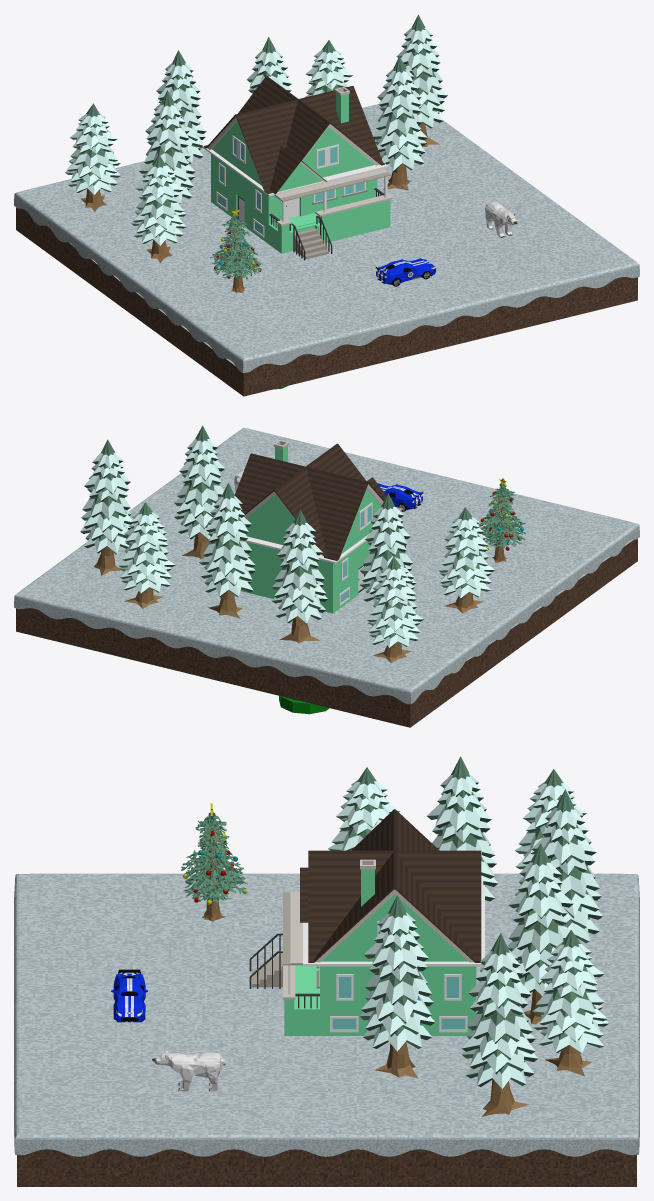
The picture shows the model from 3 angles, top to bottom: view 1: azimuth 30°, elevation 25°; view 2: azimuth 150°, elevation 25°; view 3: azimuth 270°, elevation 25°; orthographic projection. The views are drawn at different scales.
Visible parts, largest first — view 1: Cube.003, Cube.352, OBJRANDOM_CHRISTMAS_TREE, VEHICLES_RACING_CAR, ANIMAL_OSO_POLAR; view 2: Cube.003, Cube.352, OBJRANDOM_CHRISTMAS_TREE, VEHICLES_RACING_CAR, UNDERGROUND_PIPES; view 3: Cube.003, Cube.352, OBJRANDOM_CHRISTMAS_TREE, ANIMAL_OSO_POLAR, VEHICLES_RACING_CAR.
Boxes of the visible parts, bbox=[...] form: Cube.003: bbox=[14, 14, 639, 396]; Cube.352: bbox=[202, 76, 393, 260]; OBJRANDOM_CHRISTMAS_TREE: bbox=[210, 209, 262, 292]; VEHICLES_RACING_CAR: bbox=[375, 258, 435, 286]; ANIMAL_OSO_POLAR: bbox=[485, 201, 517, 237]; Cube.003: bbox=[14, 425, 639, 727]; Cube.352: bbox=[235, 440, 405, 613]; OBJRANDOM_CHRISTMAS_TREE: bbox=[479, 478, 525, 562]; VEHICLES_RACING_CAR: bbox=[378, 483, 423, 511]; UNDERGROUND_PIPES: bbox=[279, 696, 329, 714]; Cube.003: bbox=[14, 756, 639, 1186]; Cube.352: bbox=[249, 809, 484, 1035]; OBJRANDOM_CHRISTMAS_TREE: bbox=[181, 803, 248, 922]; ANIMAL_OSO_POLAR: bbox=[152, 1050, 225, 1091]; VEHICLES_RACING_CAR: bbox=[111, 969, 147, 1022].
Bounding box in the file's own units: 4040 × 2275 × 4040.
Materials: 34 (3 with a texture image).
